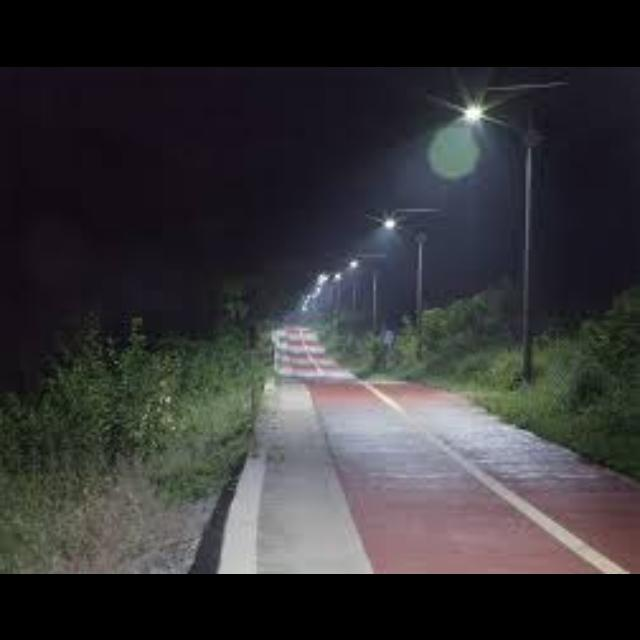Street-Lamp: (452, 88, 574, 388)
